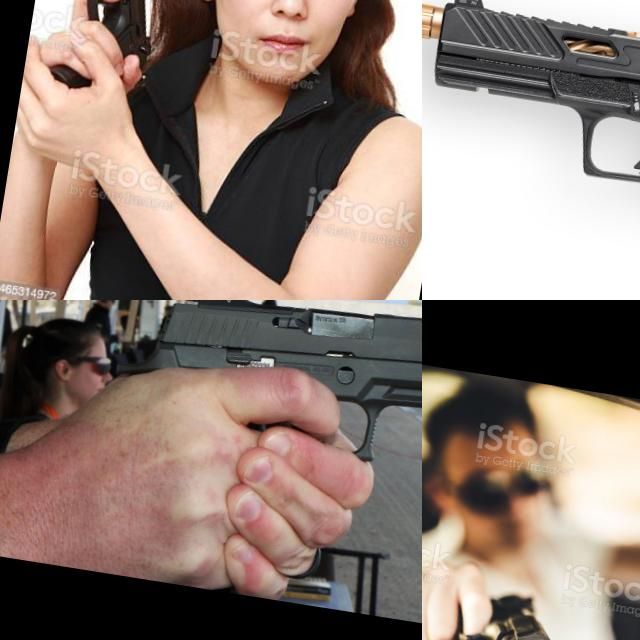handgun: (422, 0, 640, 300), (105, 300, 422, 494), (71, 0, 188, 114), (450, 582, 567, 640)
